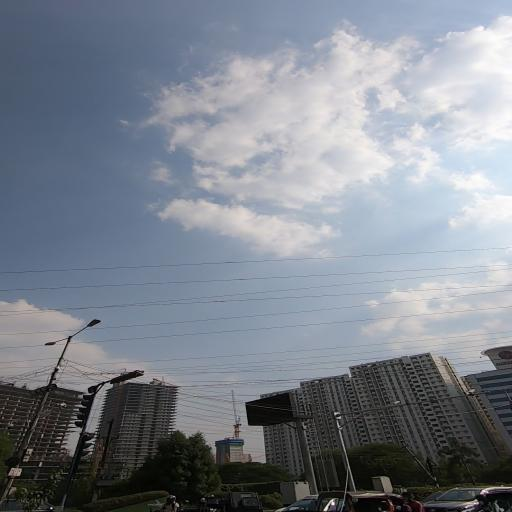Street_light: (72, 315, 102, 340), (40, 336, 65, 350)
